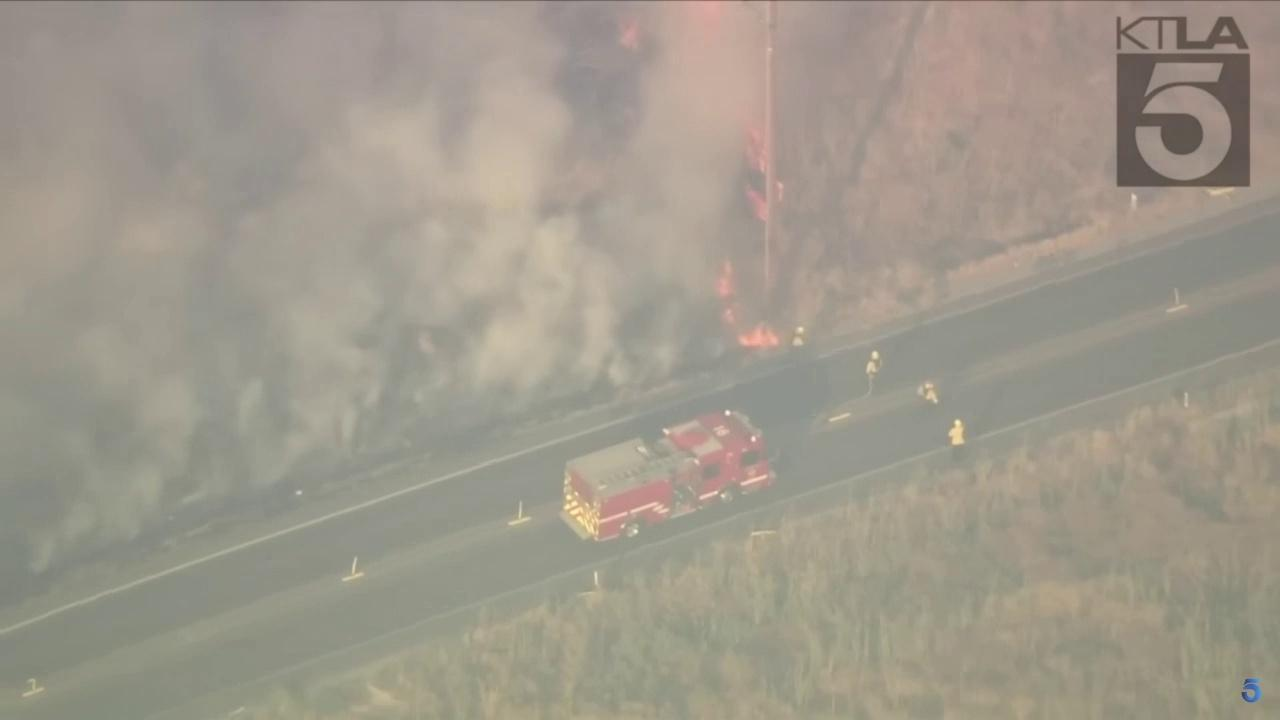fire: (742, 123, 768, 175), (736, 320, 781, 349), (743, 182, 768, 229), (715, 260, 736, 298), (720, 307, 735, 325), (776, 180, 785, 207)
smoke: (0, 0, 768, 551)
